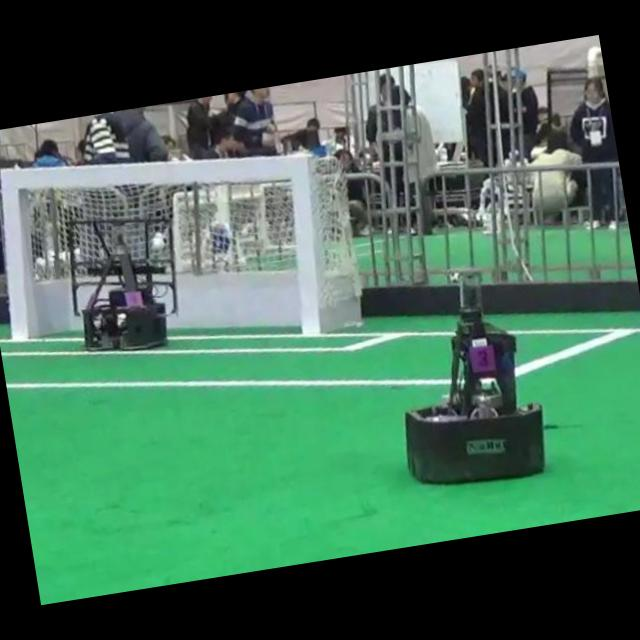goal: (288, 156, 323, 334), (1, 169, 28, 338)
robot: (407, 273, 546, 484), (82, 236, 167, 351)
